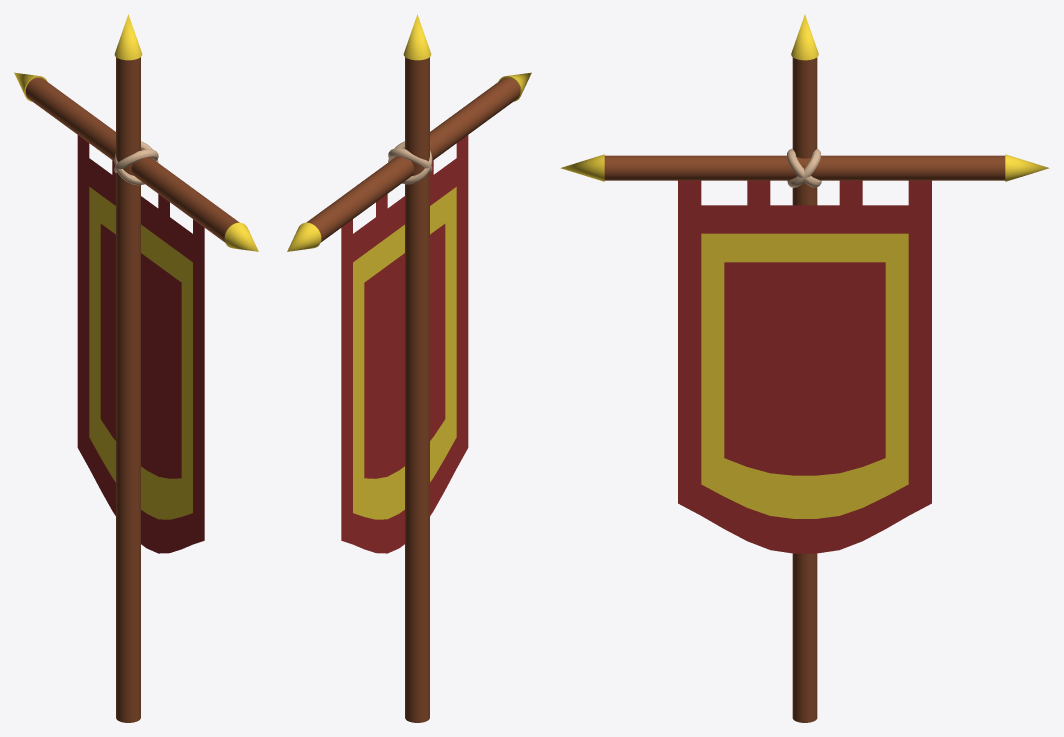
The model's file is Flag.fbx.
The picture shows the model from 3 angles, left to right: view 1: azimuth 30°, elevation 25°; view 2: azimuth 150°, elevation 25°; view 3: azimuth 270°, elevation 25°; orthographic projection.
Parts seen in each view (by area): view 1: Flag, Cross; view 2: Flag, Cross; view 3: Flag, Cross.
Boxes of the visible parts, left/top/right/bottom form: Flag: left=77, top=135, right=204, bottom=553; Cross: left=14, top=14, right=258, bottom=722; Flag: left=341, top=135, right=468, bottom=553; Cross: left=287, top=14, right=531, bottom=722; Flag: left=678, top=180, right=931, bottom=553; Cross: left=560, top=14, right=1049, bottom=722.
Size of the model in its own units: 37.89 by 625 by 394.
